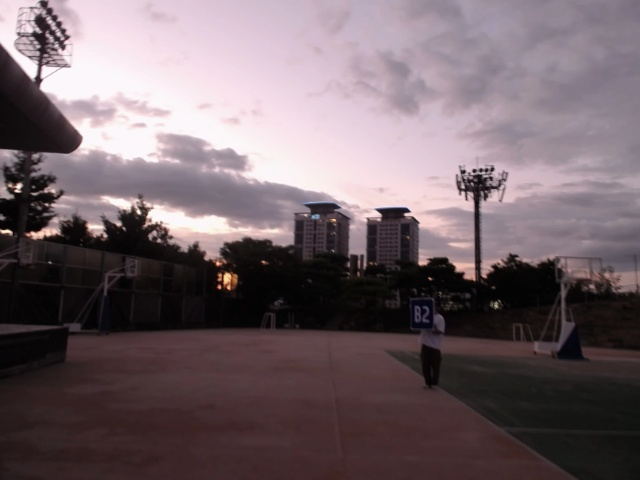delivery_b2: (408, 298, 435, 332)
